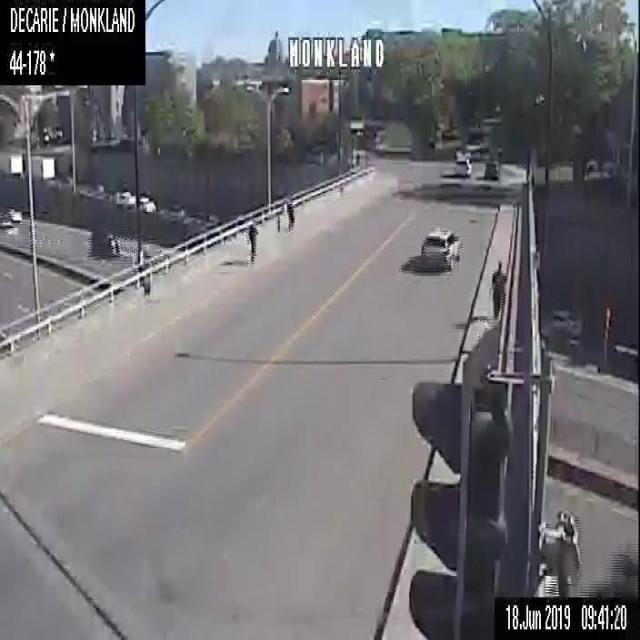pedestrian: (491, 258, 504, 318), (248, 220, 258, 263), (284, 200, 294, 229), (275, 213, 281, 231)
vehicle: (419, 226, 460, 270), (88, 229, 119, 259), (0, 147, 27, 177), (121, 191, 157, 211), (0, 201, 23, 228), (31, 152, 54, 179), (452, 149, 471, 176), (484, 156, 501, 179)
